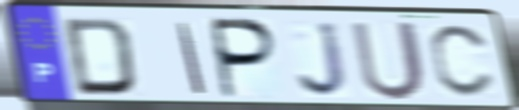C: (427, 22, 498, 101)
D: (61, 16, 139, 99)
I: (175, 20, 209, 96)
J: (295, 20, 353, 101)
P: (210, 16, 281, 102)
U: (348, 19, 429, 103)
